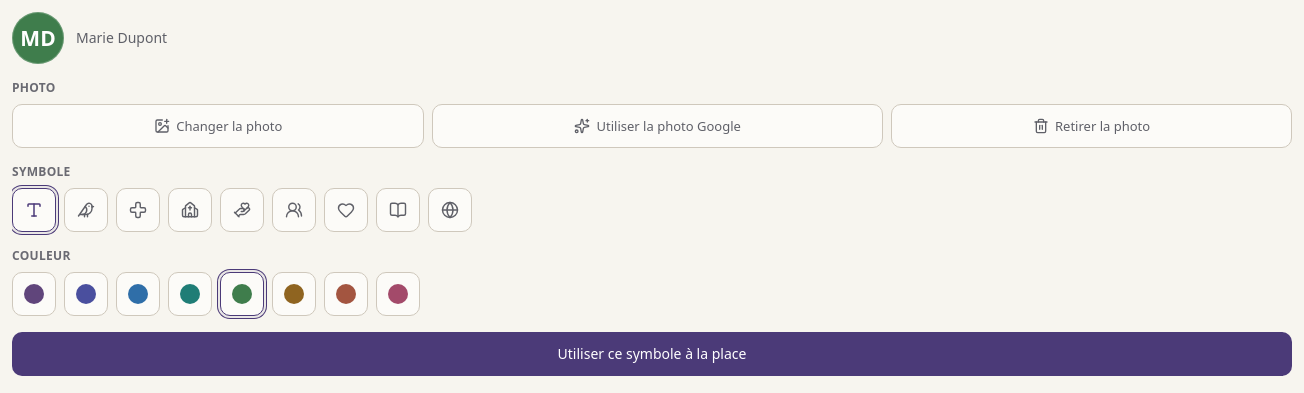
Test: going back to something else › clears the explicit choice so the account picture becomes the default again
Click the button "Utiliser la photo Google". click: x=658, y=126
box: [432, 104, 883, 148]
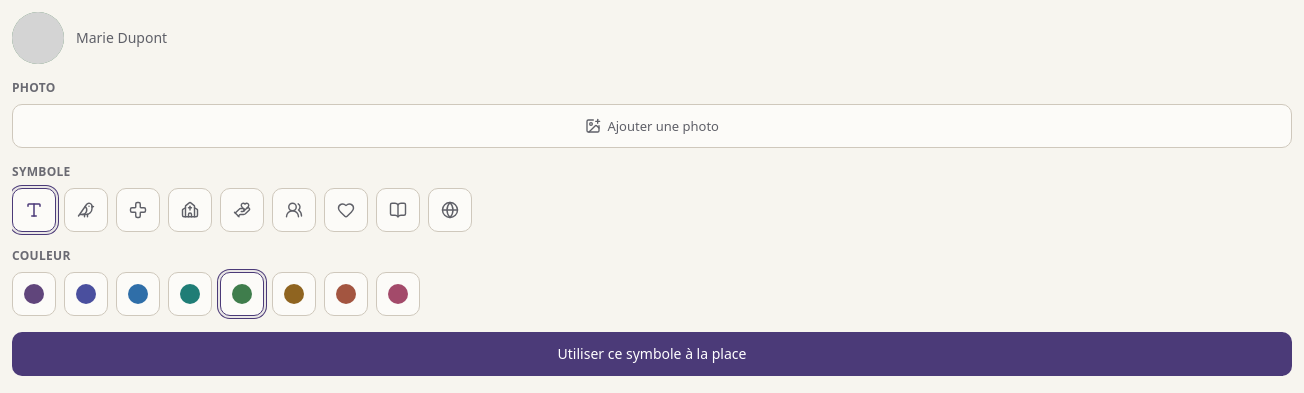
Now the button "Utiliser la photo Google" is gone
